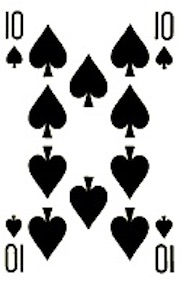TenOfSpades: (2, 2, 183, 279)
